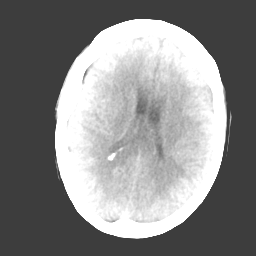ischemic: (163, 96, 180, 145)
